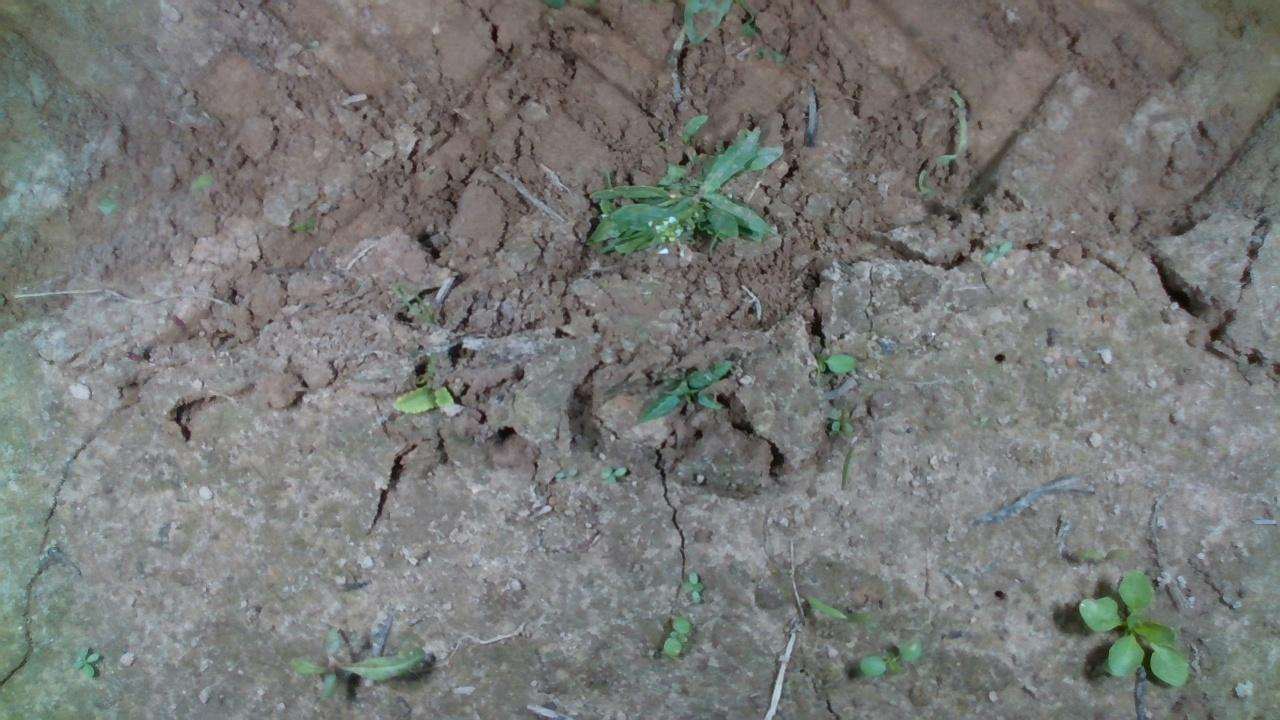weed: (857, 636, 922, 676), (660, 613, 691, 657), (69, 642, 99, 677), (676, 568, 704, 602), (598, 464, 627, 483), (553, 466, 577, 480)
